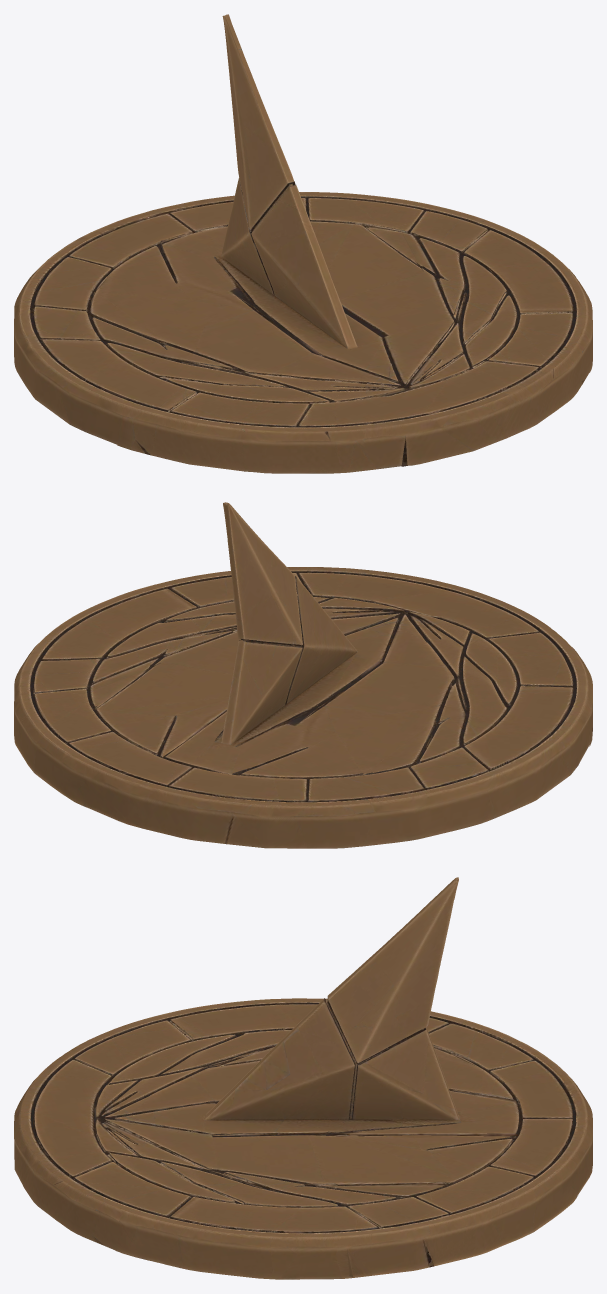
Rendered from fig-moment.glb.
3 renders of one model, top to bottom at view 1: azimuth 30°, elevation 25°; view 2: azimuth 150°, elevation 25°; view 3: azimuth 270°, elevation 25°, orthographic.
Parts seen in each view (by area): view 1: Mesh_0; view 2: Mesh_0; view 3: Mesh_0.
Boxes of the visible parts, left/top/right/bottom form: Mesh_0: left=14, top=14, right=592, bottom=473; Mesh_0: left=14, top=502, right=592, bottom=848; Mesh_0: left=14, top=877, right=592, bottom=1279.
Bounding box in the file's own units: 1.9 × 1.01 × 1.9.
1 material, 1 textured.
